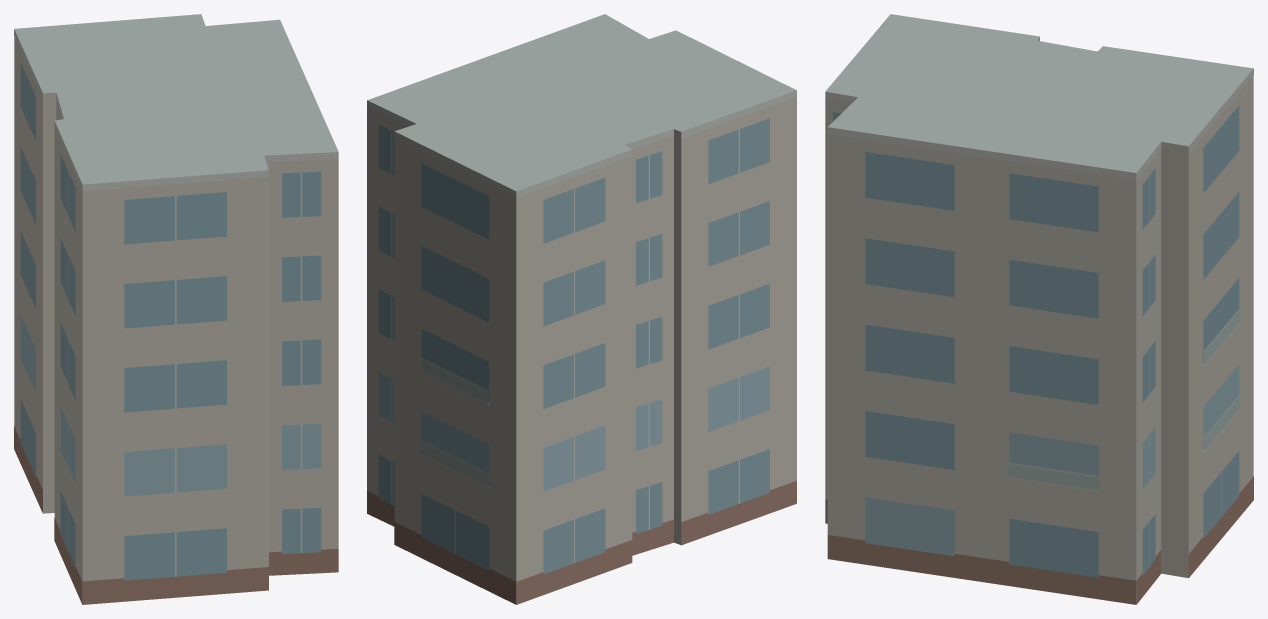
File: survey-upis-32708259.glb
3 views of the same model, side by side, from view 1: azimuth 30°, elevation 25°; view 2: azimuth 150°, elevation 25°; view 3: azimuth 270°, elevation 25° (orthographic). The views are drawn at different scales.
Visible parts, largest first — view 1: survey-upis-32708259.tmp; view 2: survey-upis-32708259.tmp; view 3: survey-upis-32708259.tmp.
Boxes of the visible parts, x1,y1,x2,y2 form: survey-upis-32708259.tmp: (14,14,338,604); survey-upis-32708259.tmp: (367,14,796,604); survey-upis-32708259.tmp: (825,14,1253,604).
Bounding box in the file's own units: 12.06 × 15.25 × 13.72.
